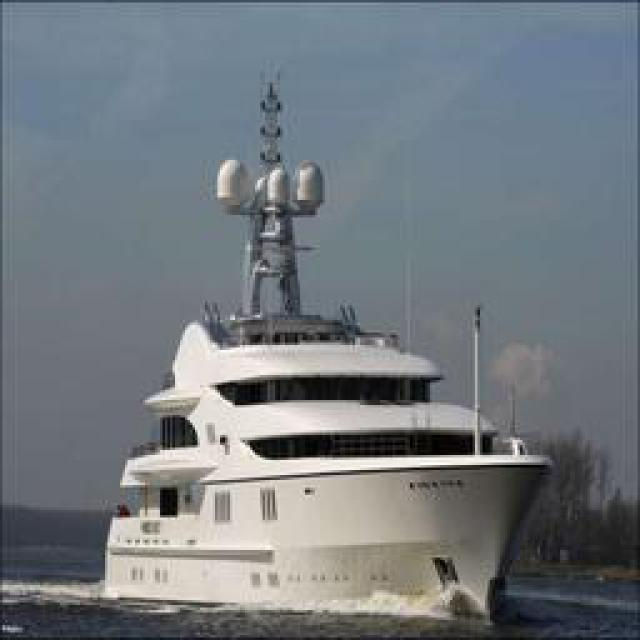Ship: (99, 206, 554, 616)
